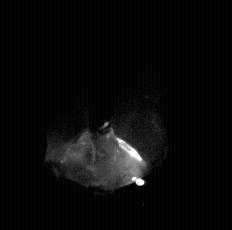arame: (90, 0, 113, 137)
poca: (47, 0, 160, 230)
